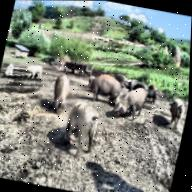boar: (80, 68, 163, 126), (60, 100, 102, 161), (49, 72, 72, 116), (162, 98, 186, 130)
